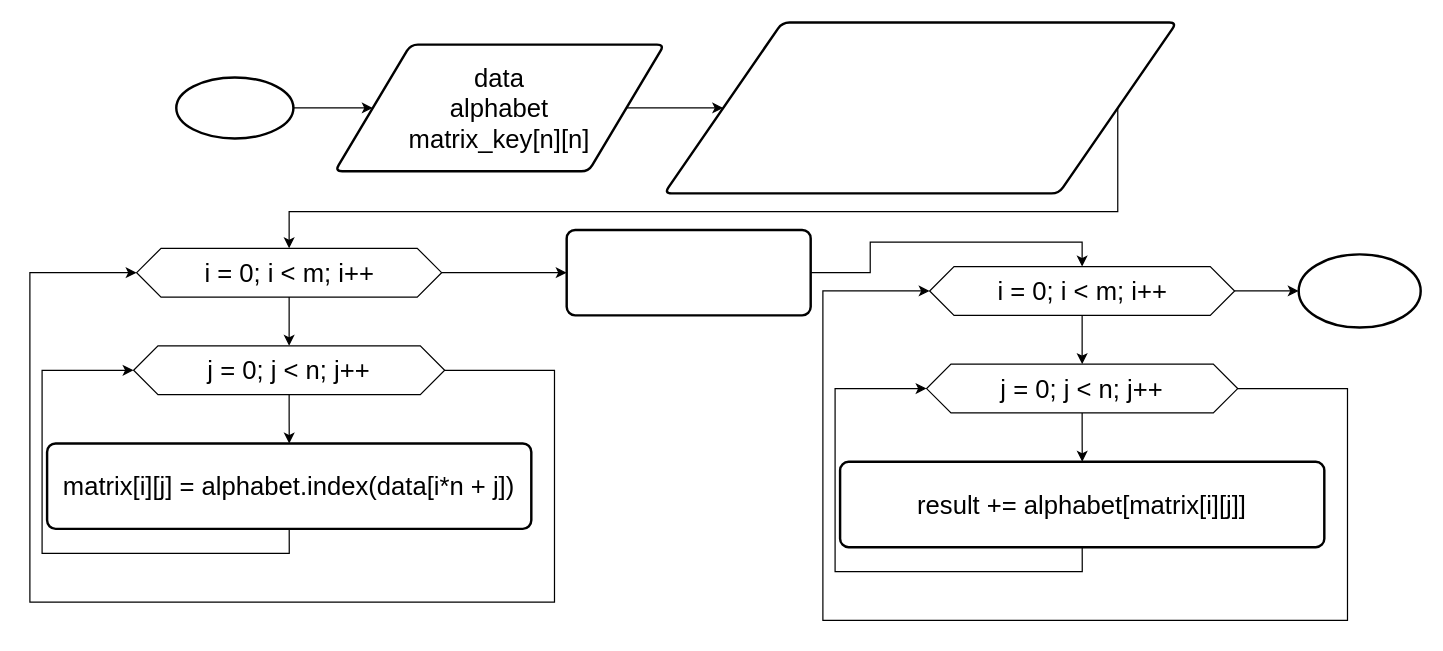
Image size: 1443x651. Some labels were removed from this diagram. The centre of each missing label's shape, as x and y in pixels:
End: the point at 1359,290
la = len(alphabet) m = Ceil(len(data)/n) matrix[m][n] result = "": the point at 919,107
matrix = (matrix * matrix_key) mod la: the point at 688,272
Start: the point at 234,107
